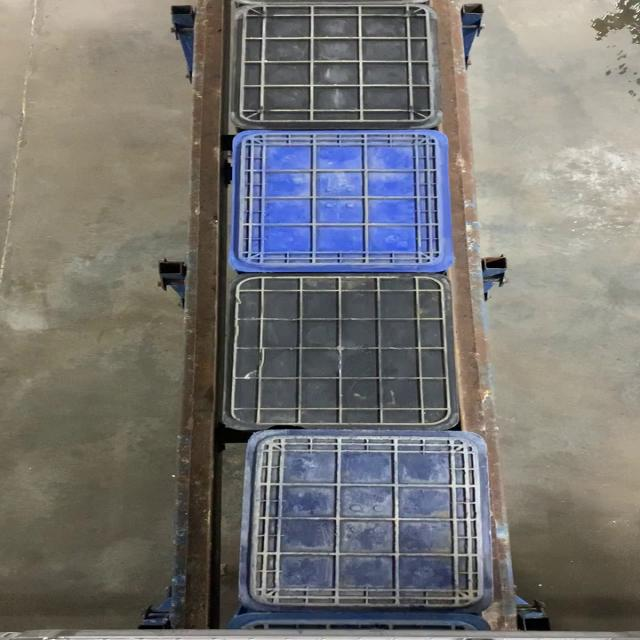Box: (236, 428, 496, 609), (228, 130, 452, 274), (228, 2, 442, 130)
Damaged_box: (218, 274, 458, 428)
